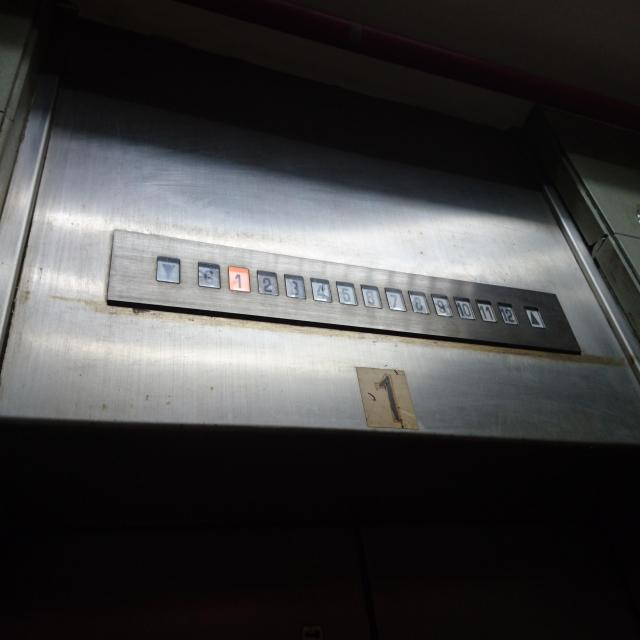1: (227, 263, 251, 294)
10: (453, 294, 475, 322)
11: (475, 297, 498, 324)
12: (497, 300, 520, 326)
2: (256, 268, 280, 298)
3: (282, 271, 306, 301)
4: (309, 274, 333, 305)
5: (335, 280, 357, 306)
6: (360, 282, 382, 309)
7: (384, 284, 406, 312)
8: (408, 288, 430, 315)
9: (430, 291, 453, 318)
G: (196, 259, 220, 289)
down: (155, 252, 181, 284)
up: (522, 303, 546, 329)
